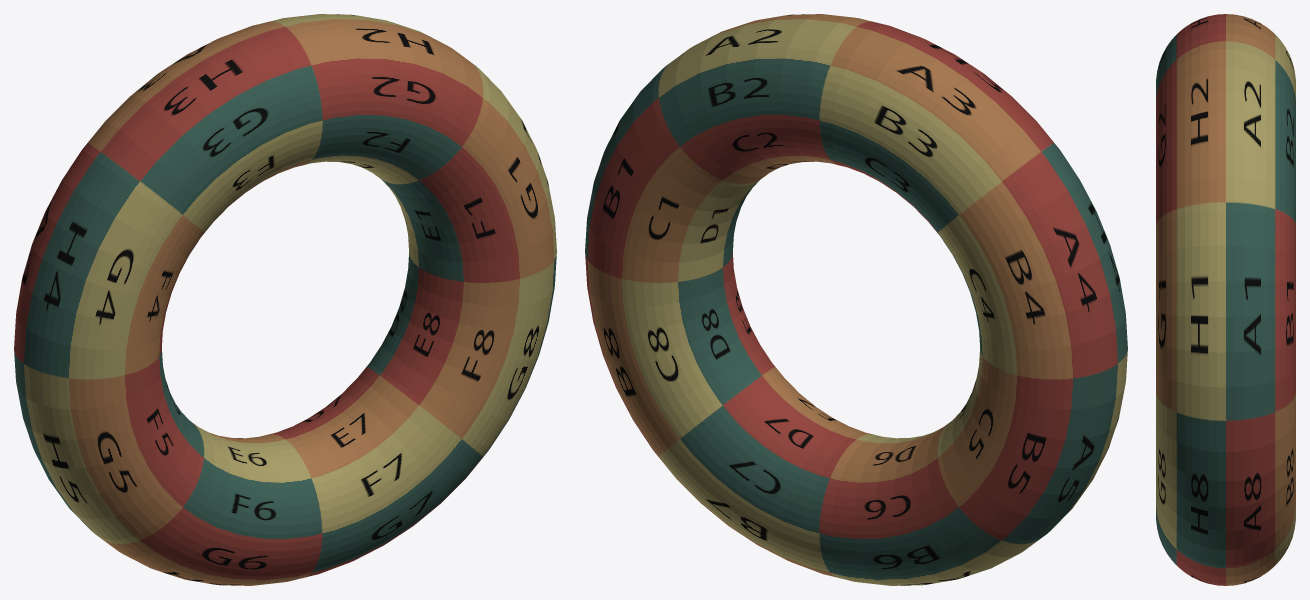
The model's file is texture_torus_R14_r16.glb.
The picture shows the model from 3 angles, left to right: view 1: azimuth 30°, elevation 25°; view 2: azimuth 150°, elevation 25°; view 3: azimuth 270°, elevation 25°; orthographic projection. The views are drawn at different scales.
Parts seen in each view (by area): view 1: world; view 2: world; view 3: world.
Boxes of the visible parts, bbox=[...] form: world: bbox=[14, 14, 556, 585]; world: bbox=[585, 14, 1127, 585]; world: bbox=[1156, 14, 1295, 585].
Size of the model in its own units: 25.6 by 25.55 by 6.25.
Materials: 1 (1 with a texture image).
